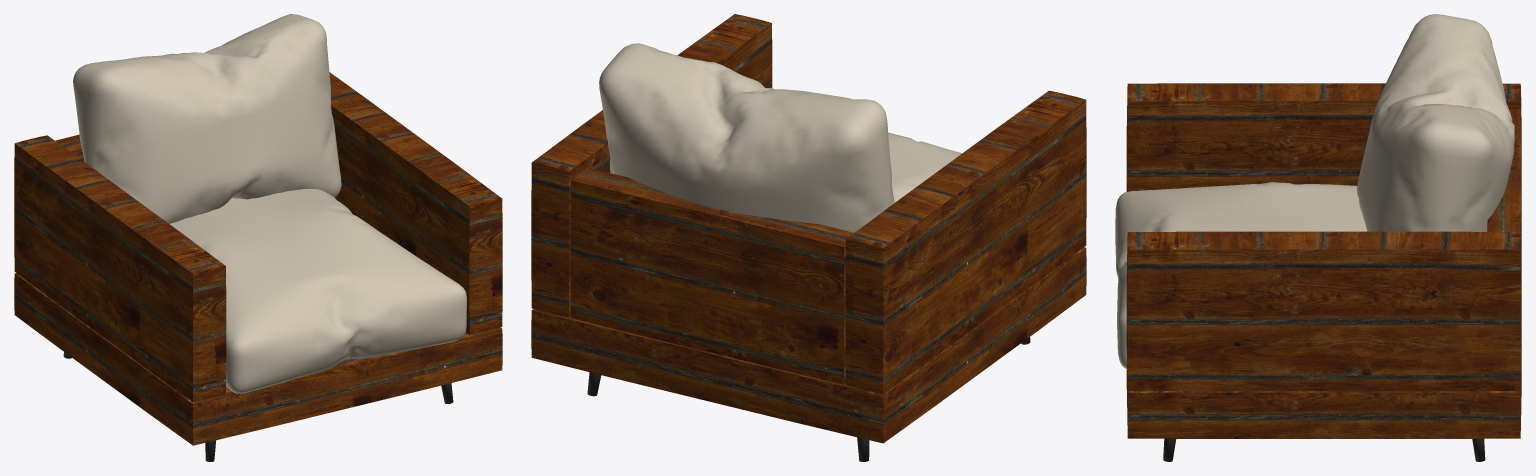
Rendered from canopee_salon_fauteuil.gltf.
3 renders of one model, left to right at view 1: azimuth 30°, elevation 25°; view 2: azimuth 150°, elevation 25°; view 3: azimuth 270°, elevation 25°, orthographic. The views are drawn at different scales.
Visible parts, largest first — view 1: canopee_salon_fauteuil; view 2: canopee_salon_fauteuil; view 3: canopee_salon_fauteuil.
Boxes of the visible parts, x1,y1,x2,y2 form: canopee_salon_fauteuil: [14, 14, 502, 461]; canopee_salon_fauteuil: [531, 14, 1086, 461]; canopee_salon_fauteuil: [1115, 14, 1521, 461].
Bounding box in the file's own units: 0.9 × 0.8221 × 0.9261.
4 materials, 2 textured.
